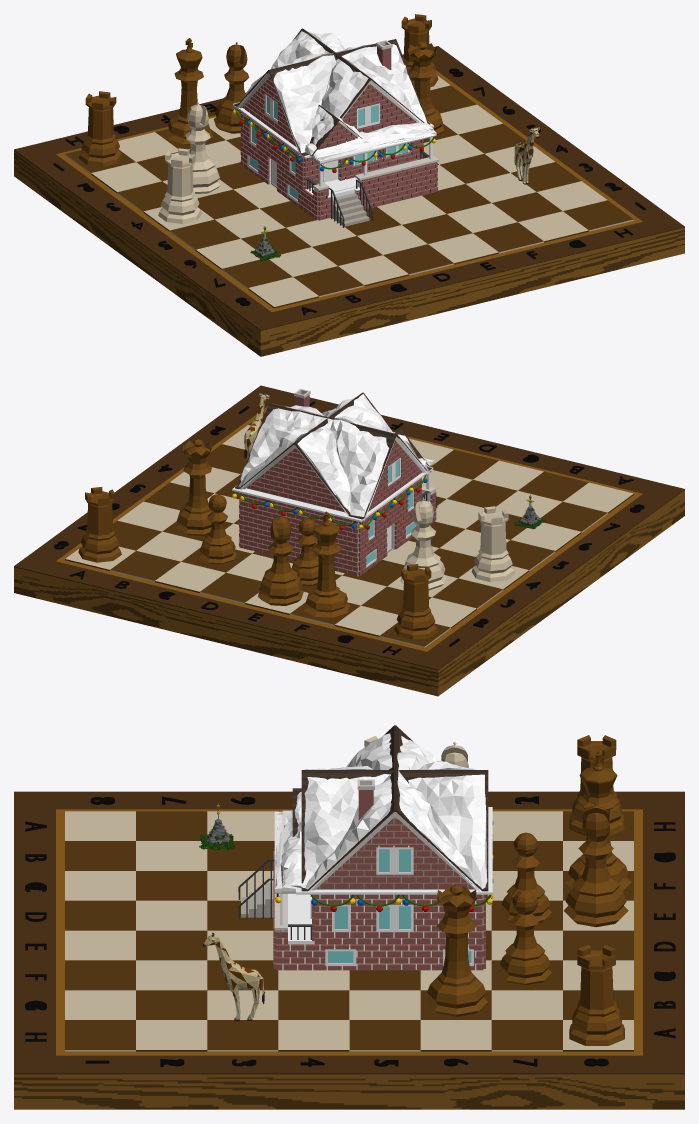
The picture shows the model from 3 angles, top to bottom: view 1: azimuth 30°, elevation 25°; view 2: azimuth 150°, elevation 25°; view 3: azimuth 270°, elevation 25°; orthographic projection. The views are drawn at different scales.
Visible parts, largest first — view 1: Cube.002, Cube.1419, ANIMAL_JIRAFA; view 2: Cube.002, Cube.1419, ANIMAL_JIRAFA; view 3: Cube.002, Cube.1419, ANIMAL_JIRAFA, OBJRANDOM_SWORD_IN_THE_STONE.
Part boxes in pixels (x1=…): Cube.002: x1=14, y1=14, x2=684, y2=356; Cube.1419: x1=232, y1=28, x2=439, y2=227; ANIMAL_JIRAFA: x1=514, y1=126, x2=539, y2=184; Cube.002: x1=14, y1=385, x2=684, y2=696; Cube.1419: x1=232, y1=388, x2=437, y2=576; ANIMAL_JIRAFA: x1=244, y1=393, x2=269, y2=459; Cube.002: x1=14, y1=735, x2=684, y2=1109; Cube.1419: x1=238, y1=725, x2=493, y2=970; ANIMAL_JIRAFA: x1=202, y1=932, x2=264, y2=1021; OBJRANDOM_SWORD_IN_THE_STONE: x1=198, y1=803, x2=234, y2=850.
Size of the model in its own units: 3981 by 1507 by 4012.
Materials: 40 (3 with a texture image).
